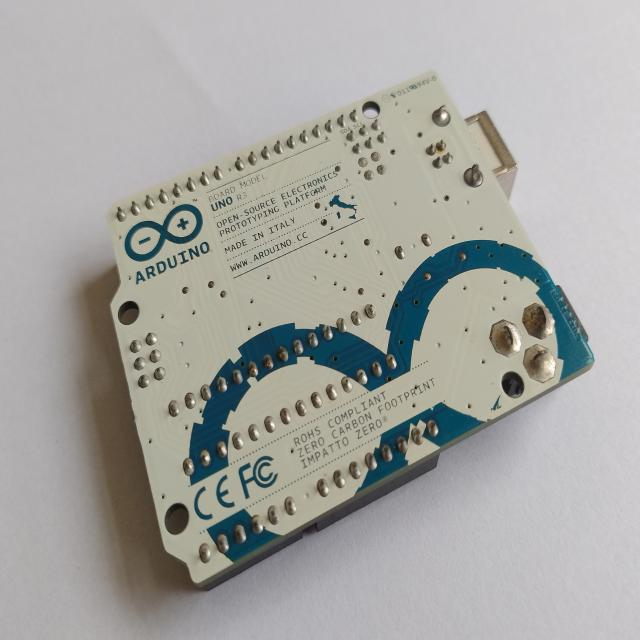arduino: (94, 62, 620, 606)
